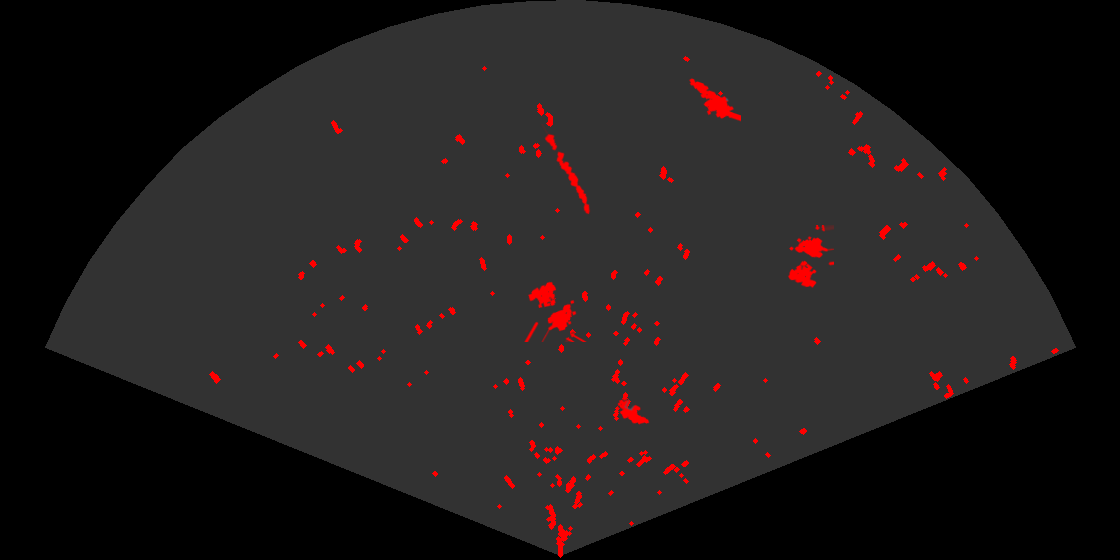AUV: (616, 398, 651, 426)
cage: (523, 280, 588, 342), (786, 225, 834, 290)
chain: (540, 124, 592, 216)
frogman: (687, 77, 741, 123)
